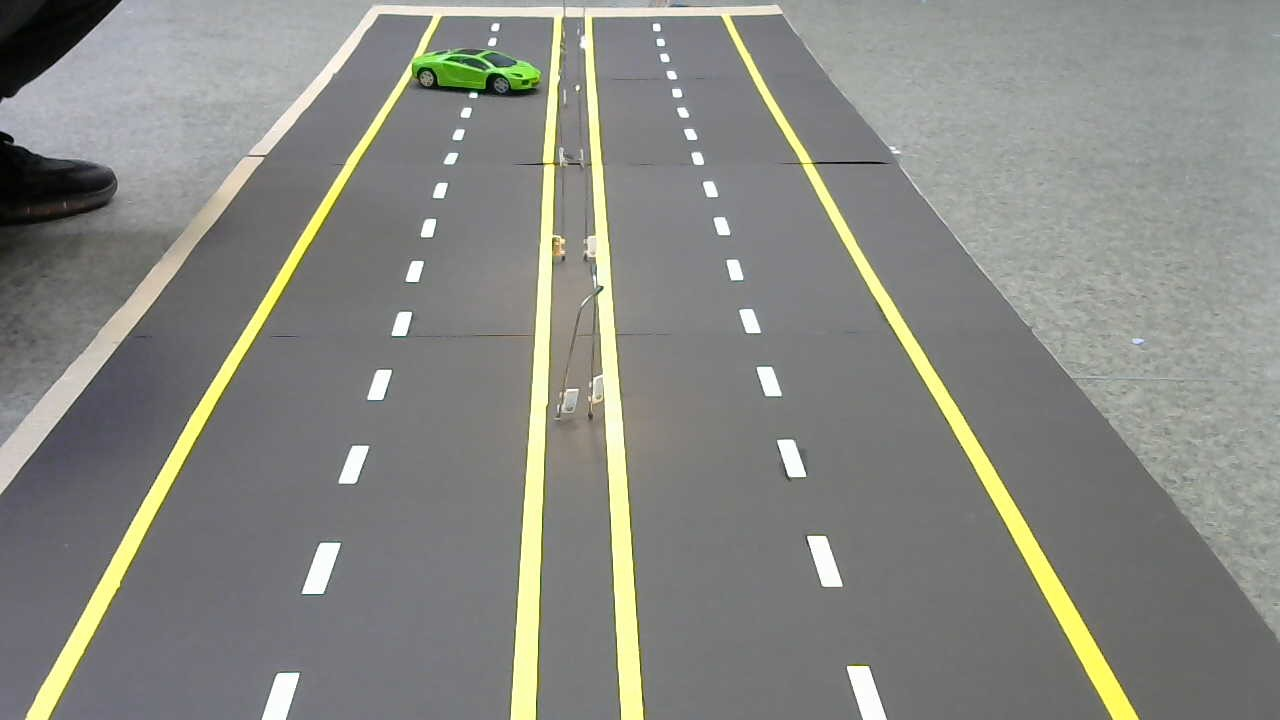overturn_car: (411, 44, 546, 102)
